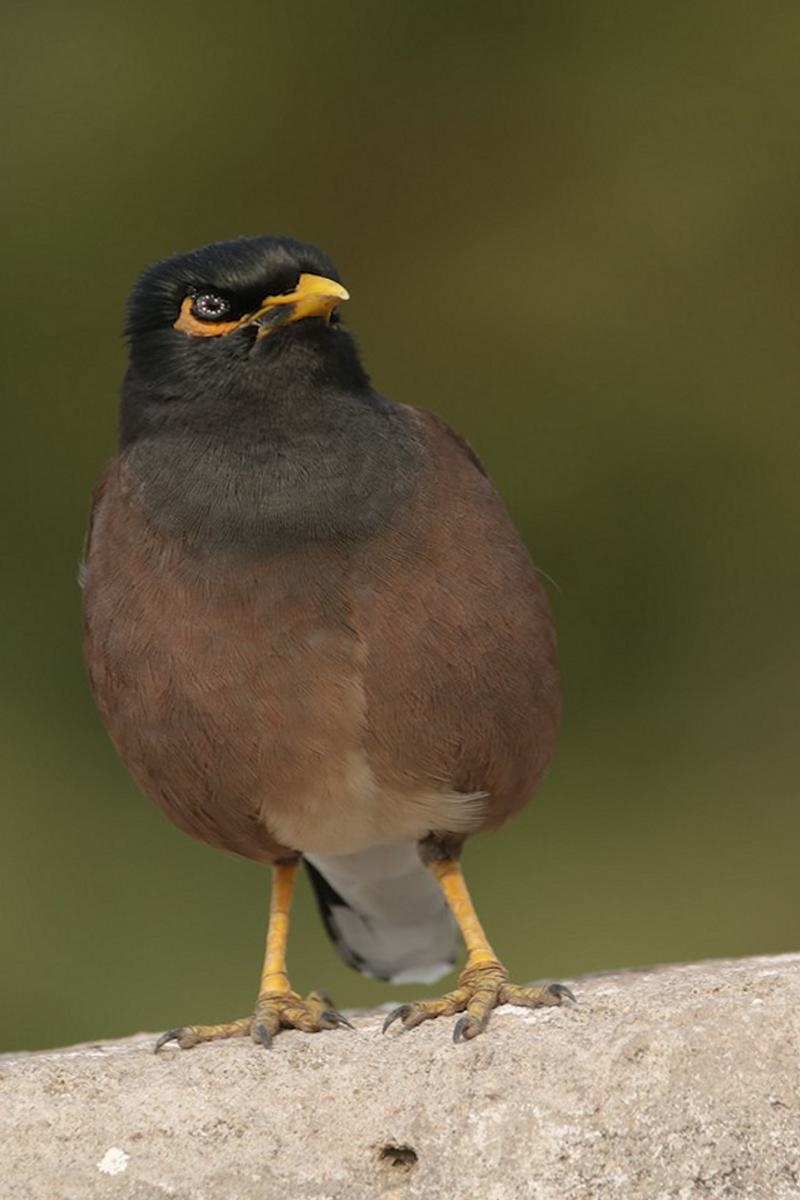myna: (99, 227, 568, 1062)
